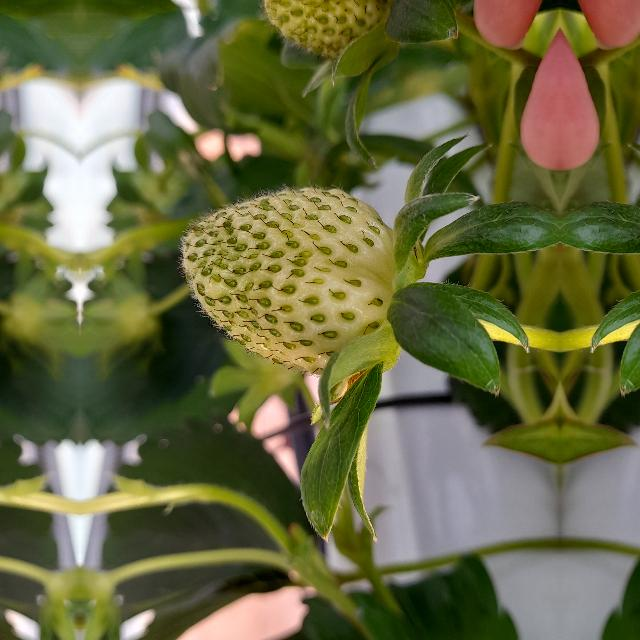Health_25: (181, 187, 393, 375)
